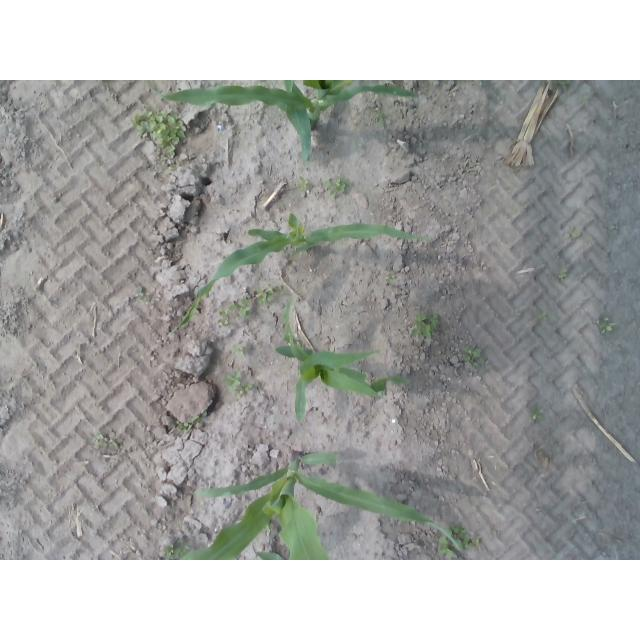Maize: (165, 214, 425, 340), (180, 453, 469, 560), (150, 80, 418, 162), (275, 298, 410, 422), (251, 545, 286, 560)
Weeds: (137, 110, 188, 159), (411, 312, 439, 336), (327, 179, 346, 198), (596, 317, 616, 332), (234, 300, 251, 317), (227, 373, 242, 392), (255, 292, 273, 304), (468, 346, 483, 360), (454, 523, 469, 536), (437, 537, 448, 554), (136, 287, 149, 301), (167, 544, 181, 556), (298, 176, 310, 190), (232, 344, 244, 357), (566, 227, 577, 241), (220, 312, 231, 324), (387, 273, 398, 283), (533, 409, 543, 420), (90, 434, 102, 443), (243, 384, 253, 392), (177, 421, 188, 428), (560, 270, 568, 279), (237, 389, 244, 399), (511, 309, 521, 315), (538, 312, 547, 318)
